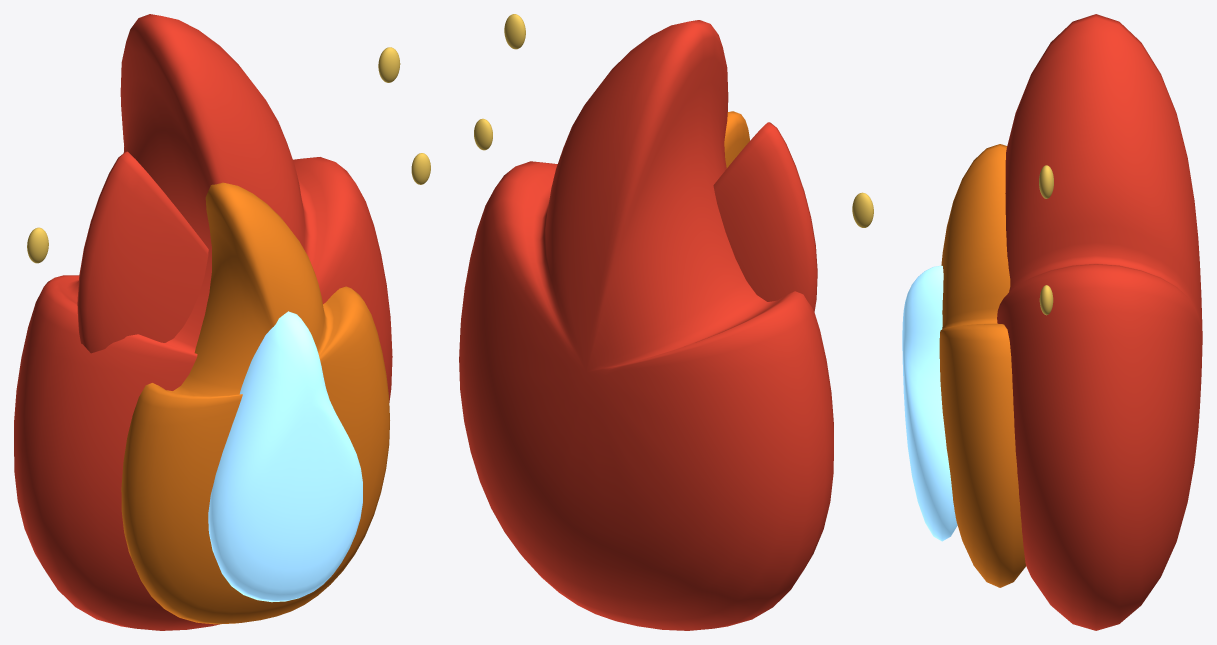
File: flame-3.glb
The picture shows the model from 3 angles, left to right: view 1: azimuth 30°, elevation 25°; view 2: azimuth 150°, elevation 25°; view 3: azimuth 270°, elevation 25°; orthographic projection. The views are drawn at different scales.
Parts seen in each view (by area): view 1: Coral outer flame.003, Orange middle flame.003, Warm yellow core.003, Extra blazing flick, Floating ember 1, Floating ember 3; view 2: Coral outer flame.003, Extra blazing flick, Orange middle flame.003, Floating ember 1, Floating ember 3; view 3: Coral outer flame.003, Orange middle flame.003, Warm yellow core.003.
Boxes of the visible parts, x1,y1,x2,y2 form: Coral outer flame.003: [14, 14, 392, 630]; Orange middle flame.003: [121, 182, 389, 624]; Warm yellow core.003: [208, 311, 362, 602]; Extra blazing flick: [77, 151, 208, 353]; Floating ember 1: [27, 227, 48, 263]; Floating ember 3: [378, 47, 400, 82]; Coral outer flame.003: [459, 20, 833, 630]; Extra blazing flick: [713, 122, 817, 311]; Orange middle flame.003: [724, 111, 749, 168]; Floating ember 1: [852, 192, 873, 227]; Floating ember 3: [504, 14, 525, 49]; Coral outer flame.003: [997, 14, 1202, 630]; Orange middle flame.003: [939, 144, 1025, 587]; Warm yellow core.003: [902, 265, 957, 541].
Size of the model in its own units: 3.31 by 4.85 by 2.3.
